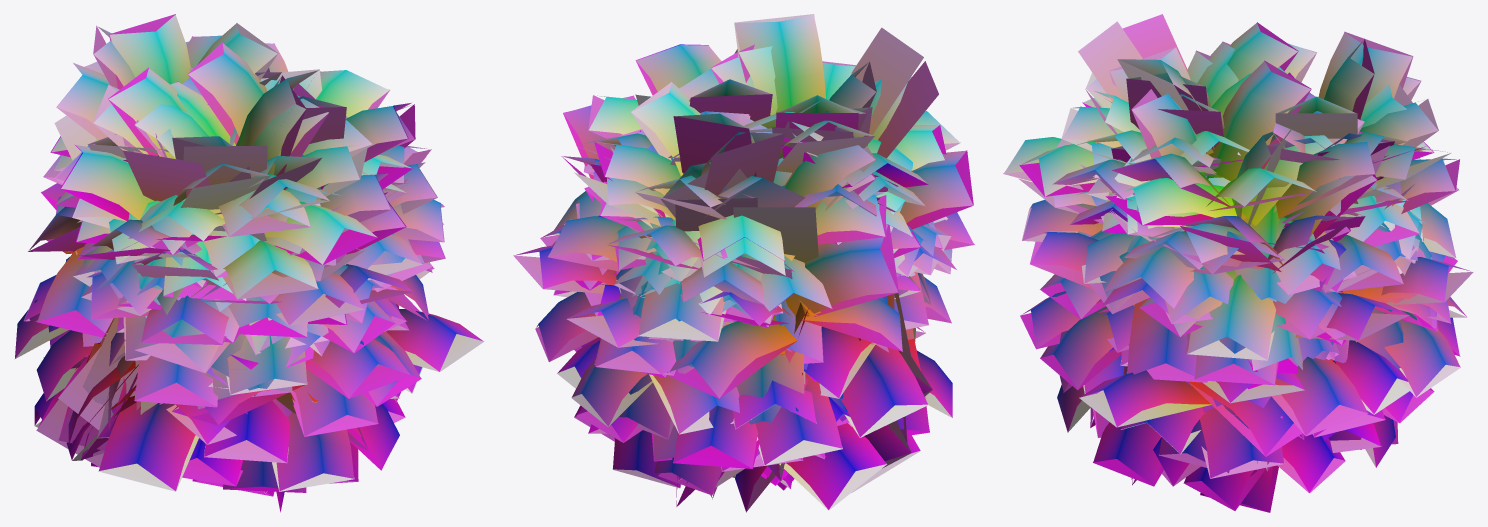
File: elm_01_3.fbx
The picture shows the model from 3 angles, left to right: view 1: azimuth 30°, elevation 25°; view 2: azimuth 150°, elevation 25°; view 3: azimuth 270°, elevation 25°; orthographic projection. The views are drawn at different scales.
Parts seen in each view (by area): view 1: elm_rought_leaves_01_3_lod_0, elm_rought_leaves_01_3_shadow; view 2: elm_rought_leaves_01_3_lod_0, elm_rought_leaves_01_3_shadow; view 3: elm_rought_leaves_01_3_lod_0, elm_rought_leaves_01_3_shadow.
Part boxes in pixels (x1,y1,x2,y2): elm_rought_leaves_01_3_lod_0: (15,15,483,512); elm_rought_leaves_01_3_shadow: (14,14,484,496); elm_rought_leaves_01_3_lod_0: (514,14,973,511); elm_rought_leaves_01_3_shadow: (513,14,974,512); elm_rought_leaves_01_3_lod_0: (1004,23,1470,512); elm_rought_leaves_01_3_shadow: (1003,14,1473,512).
Size of what is drawn, in the model's own units: 9.43 by 9.9 by 10.14.
